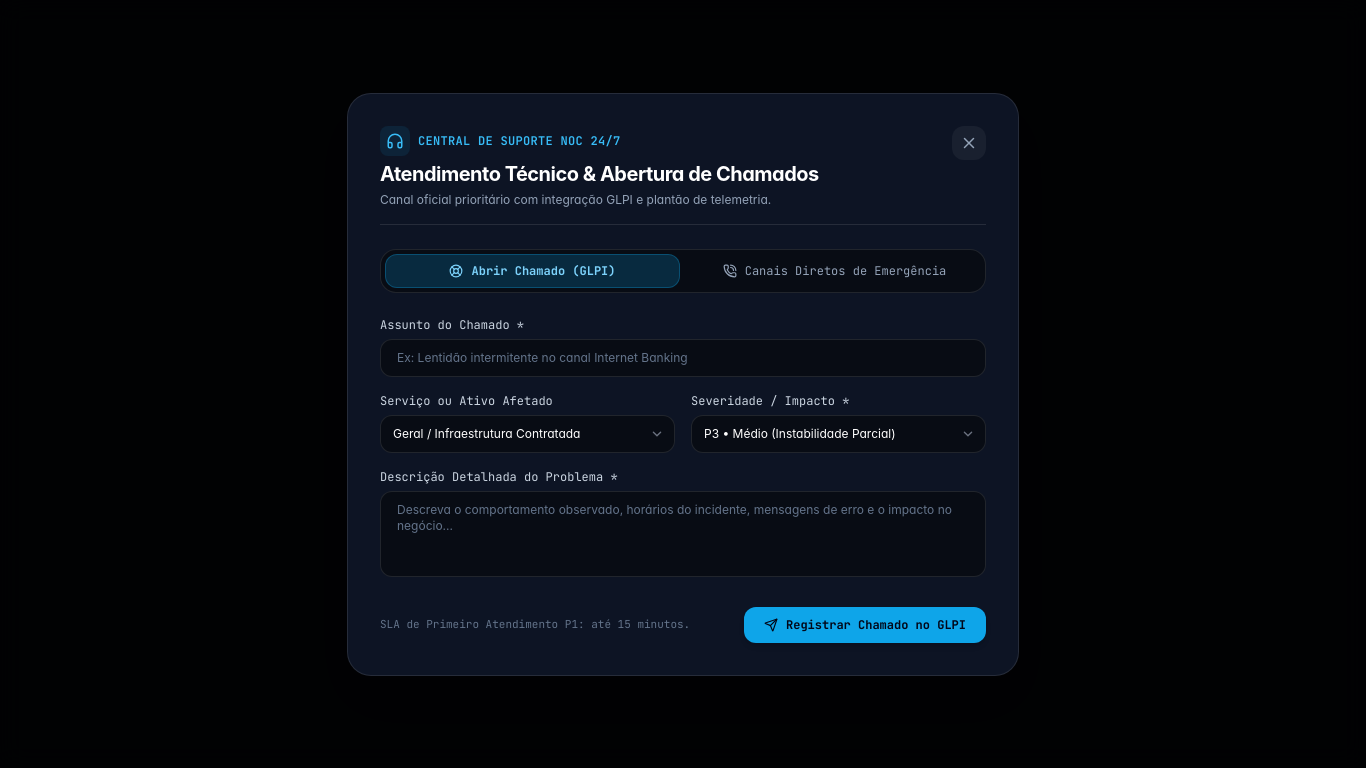
Test: Portal do Cliente - ClientSupportModal (Suporte e Chamados) › deve renderizar modal de suporte com formulário e aba de canais diretos
Expected: the button with test id "support-tab-ticket" is shown, [385,254,680,288]
# Alternar para canais diretos: contatos vêm do contrato, não de dados fictícios
Click the button with test id "support-tab-direct".
click(834, 270)  # box [688,254,981,286]
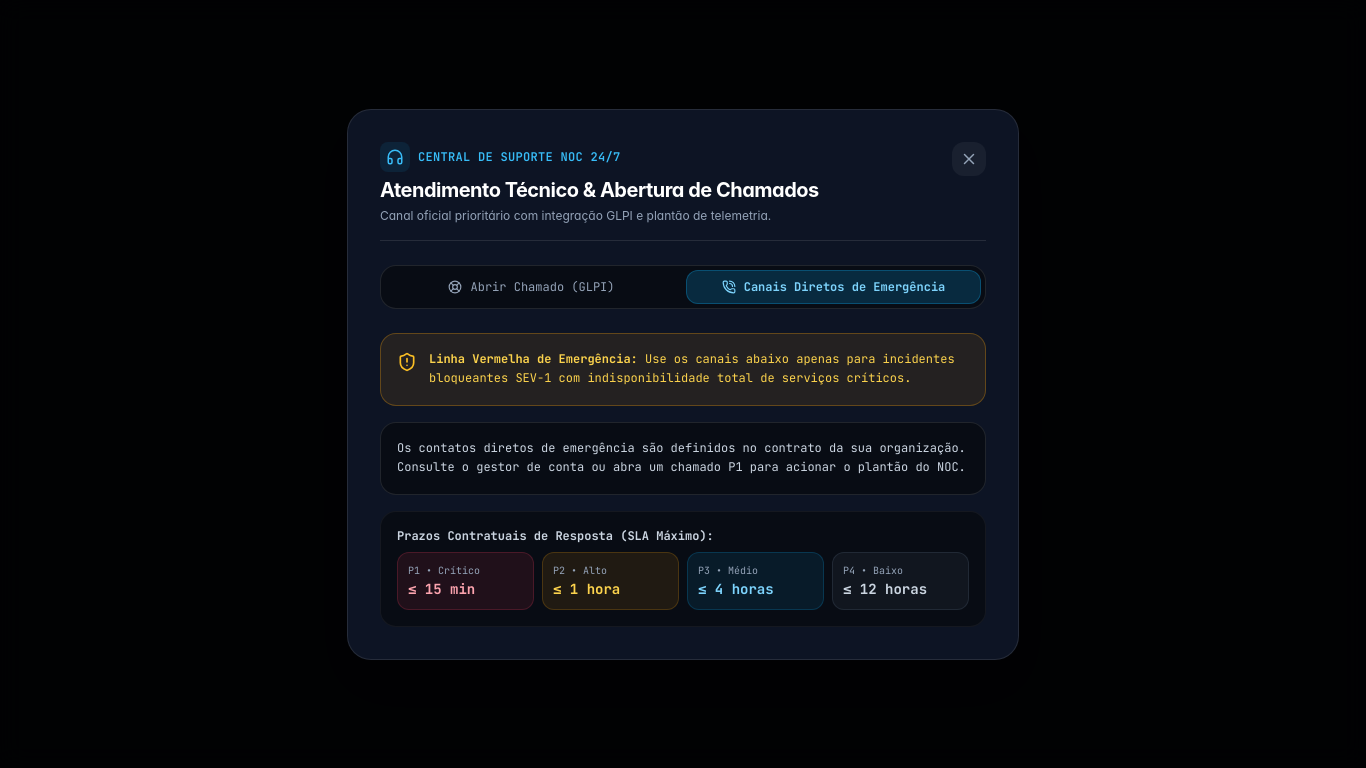
Expected: the text "contatos diretos de emergência são definidos no contrato" is shown, [397,440,966,475]
